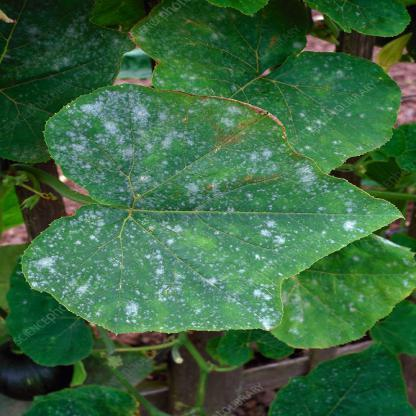Squash Powdery mildew leaf: (15, 86, 406, 336)
